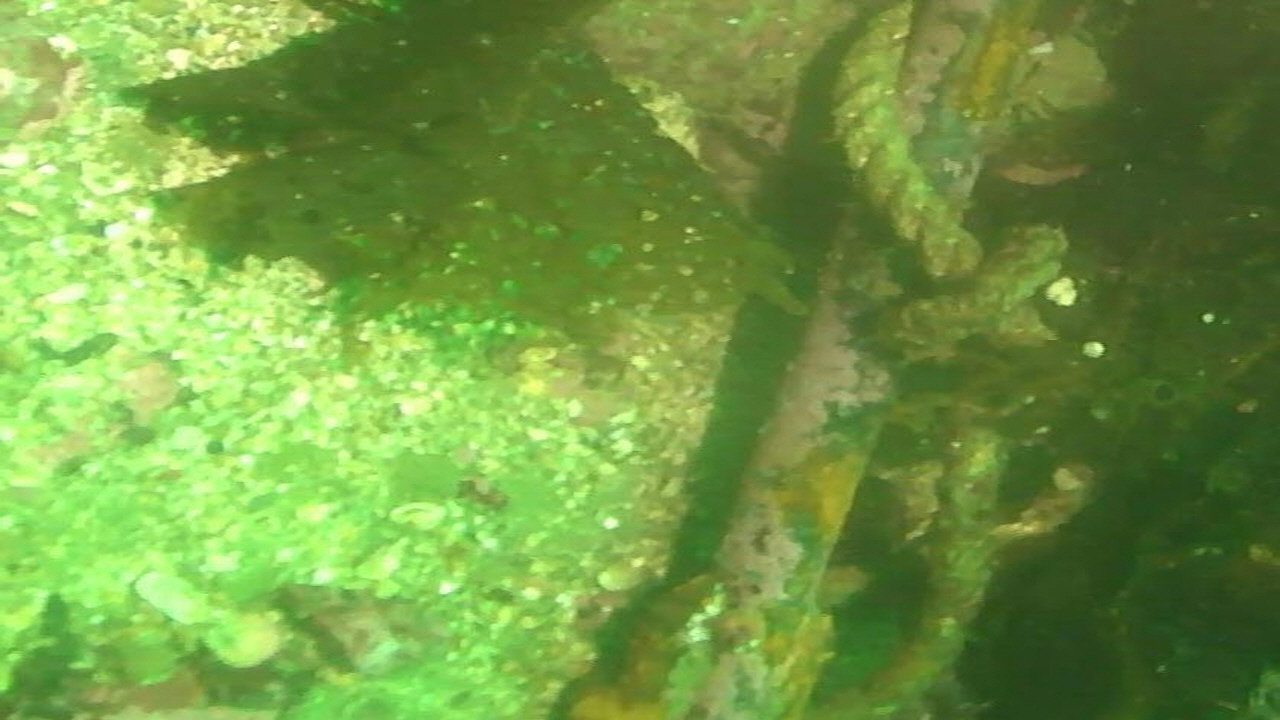bundle of ropes: (832, 0, 1070, 364)
